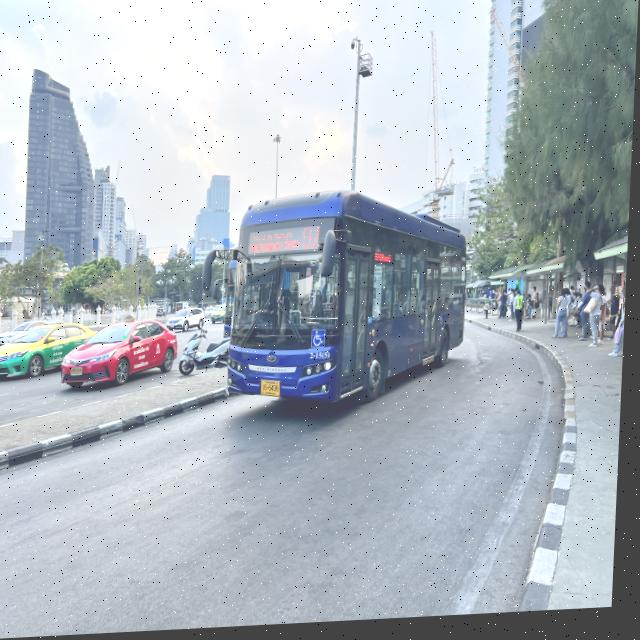Bus-Line-Number: (302, 226, 326, 257)
Destination-Sign-Normal: (251, 231, 303, 258)
TSB-Bus: (228, 191, 474, 415)
